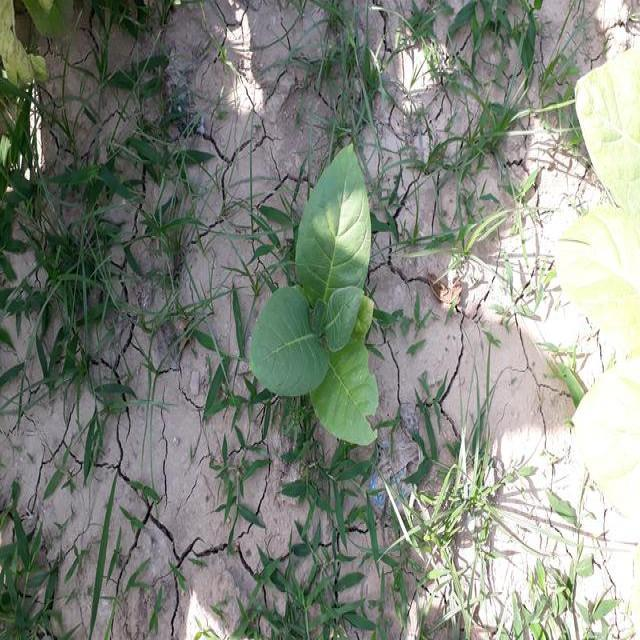crop: (238, 142, 402, 462)
